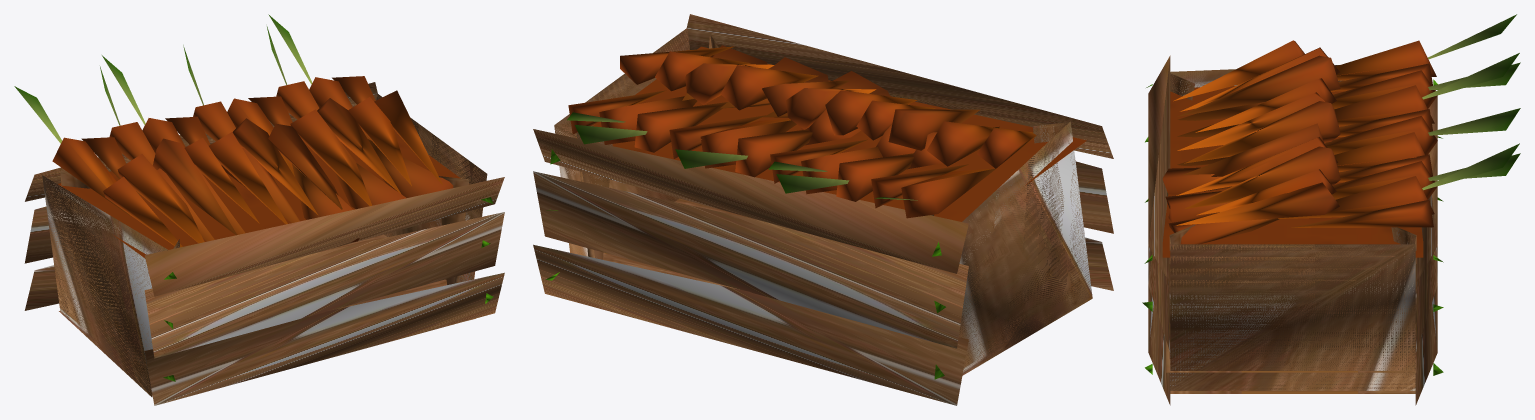
File: FarmCrate_Carrot.low.gltf
3 views of the same model, side by side, from view 1: azimuth 30°, elevation 25°; view 2: azimuth 150°, elevation 25°; view 3: azimuth 270°, elevation 25° (orthographic). The views are drawn at different scales.
Visible parts, largest first — view 1: FarmCrate_Carrot; view 2: FarmCrate_Carrot; view 3: FarmCrate_Carrot.
Boxes of the visible parts, <box> form: FarmCrate_Carrot: <box>14,14,504,405</box>; FarmCrate_Carrot: <box>533,14,1113,405</box>; FarmCrate_Carrot: <box>1142,14,1520,405</box>.
Size of the model in its own units: 0.6191 by 0.3415 by 0.5196.
3 materials, 3 textured.
